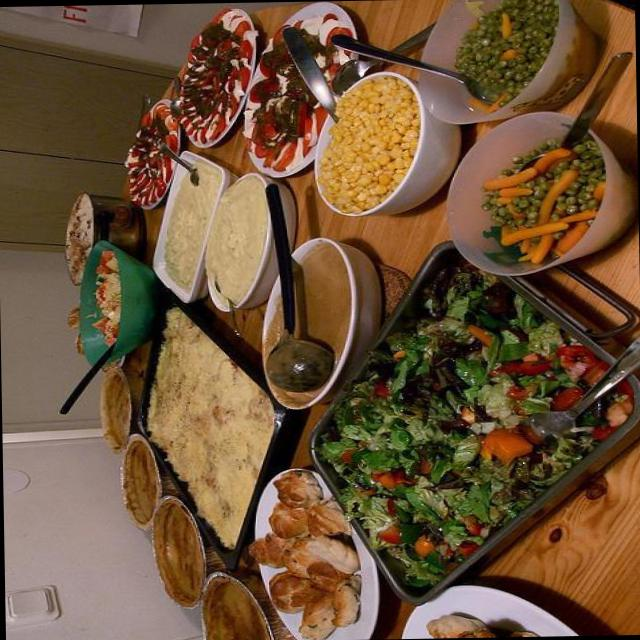bowl: (446, 110, 635, 274), (415, 0, 607, 124), (310, 68, 465, 216), (255, 466, 380, 640), (263, 235, 380, 406), (152, 148, 240, 300), (208, 175, 302, 310), (76, 238, 162, 368), (150, 491, 232, 609), (60, 189, 146, 283), (199, 569, 298, 640), (120, 431, 174, 528), (98, 365, 144, 454)
broccoli: (525, 317, 564, 356), (457, 482, 492, 522), (363, 446, 401, 469), (388, 332, 432, 351), (341, 422, 383, 441), (435, 363, 463, 388), (354, 472, 372, 488)
carrot: (536, 167, 580, 224), (481, 426, 538, 468), (498, 220, 570, 246), (550, 220, 590, 256), (482, 165, 540, 189), (517, 232, 554, 264), (532, 146, 574, 174), (496, 193, 526, 216), (555, 206, 597, 221), (594, 180, 608, 201), (499, 187, 533, 195), (498, 47, 518, 59)
diningtable: (50, 0, 640, 640)
fork: (544, 339, 633, 426)
spoon: (516, 48, 636, 172), (264, 180, 334, 392), (330, 29, 492, 106), (330, 20, 440, 94), (280, 23, 340, 122), (57, 342, 116, 414), (159, 140, 198, 186), (170, 96, 182, 116)
